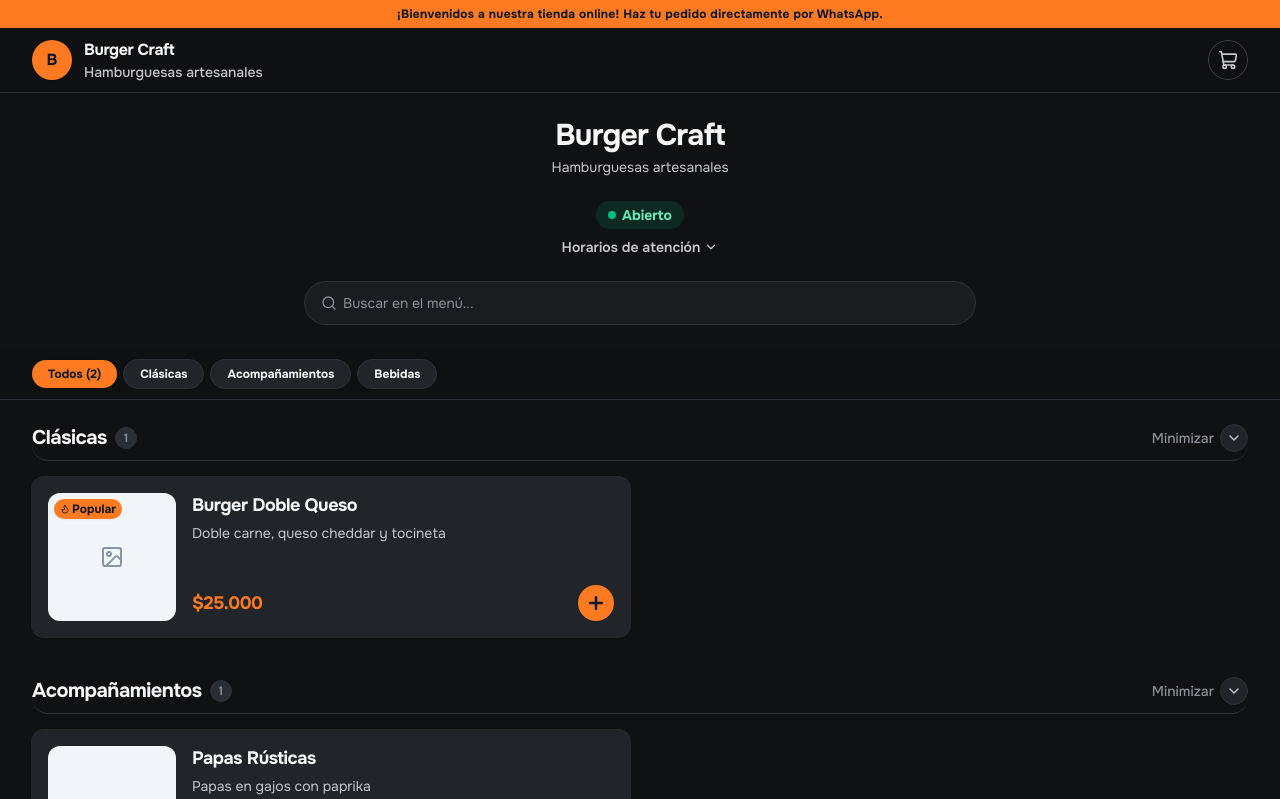
Storefront Navigation & Cart / Checkout Flow › allows collapsing and expanding category sections, and auto-expands on category pill click
This screenshot has width=1280, height=799.
Expected: the search field with placeholder "Buscar en el menú..." is shown, [337,281,971,325]
Expected: the heading "Burger Doble Queso" is shown, [192,494,357,516]
# Click header button to collapse
What coordinates should you click on to do the following:
click the button "Clásicas 1 Minimizar"
I would click on:
 (69, 438)
Its box is [32,424,1248,461].
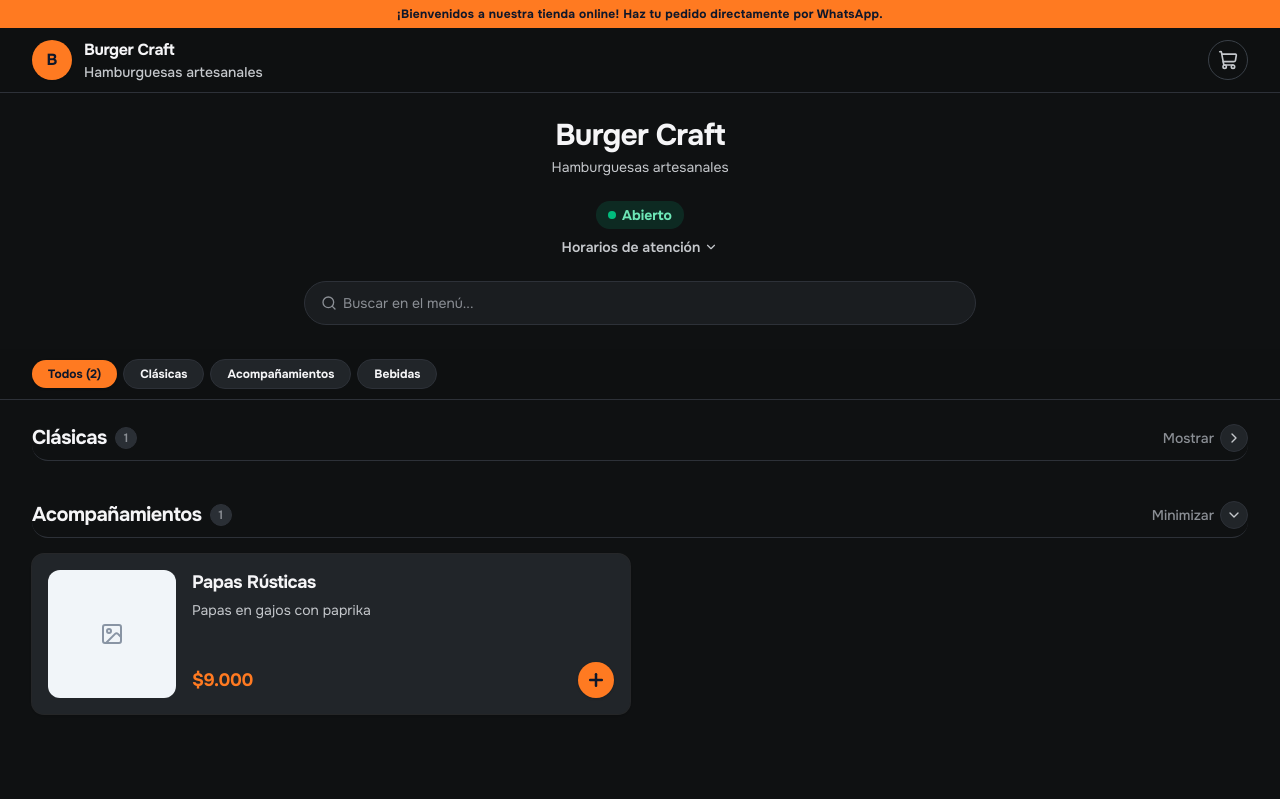
Expected: the button "Clásicas 1 Mostrar" is collapsed
Expected: the button "Burger Doble Queso" is gone
# Click header button again to re-expand
What coordinates should you click on to do the following:
click the button "Clásicas 1 Mostrar"
I would click on:
 (69, 438)
Its box is [32,424,1248,461].
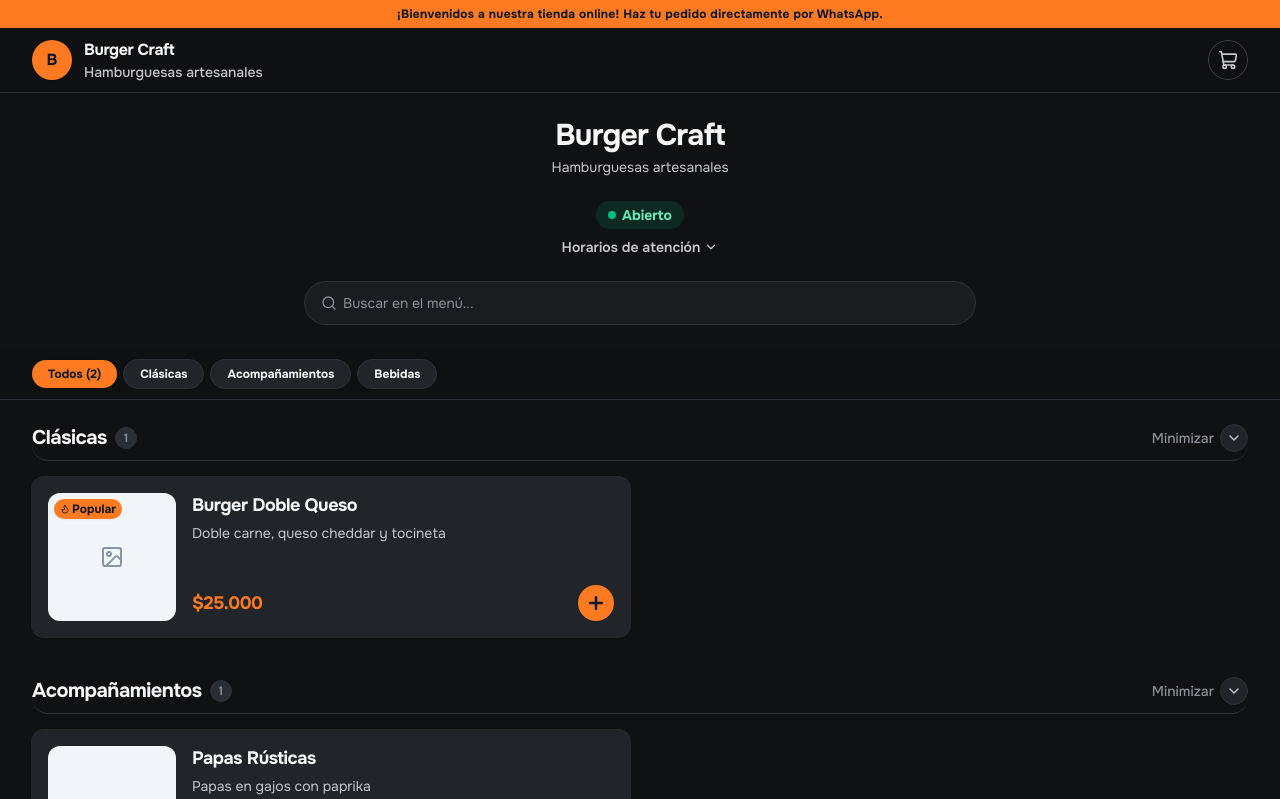
Expected: the button "Clásicas 1 Minimizar" is expanded
Expected: the heading "Burger Doble Queso" is shown, [192,494,357,516]
# Collapse again
What coordinates should you click on to do the following:
click the button "Clásicas 1 Minimizar"
I would click on:
 (69, 438)
Its box is [32,424,1248,461].
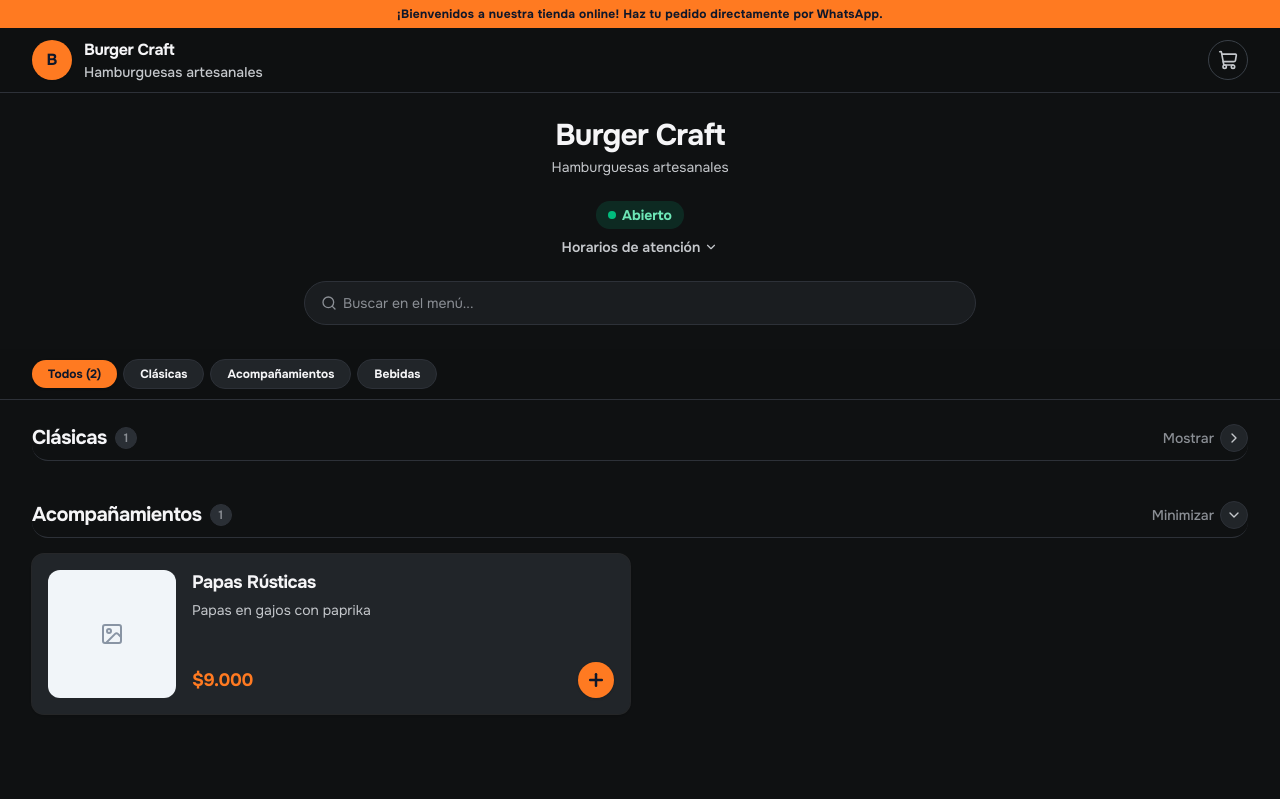
Expected: the button "Burger Doble Queso" is gone
What coordinates should you click on to do the following:
click the button "Clásicas"
I would click on:
 (164, 374)
Its box is [123,359,204,389].
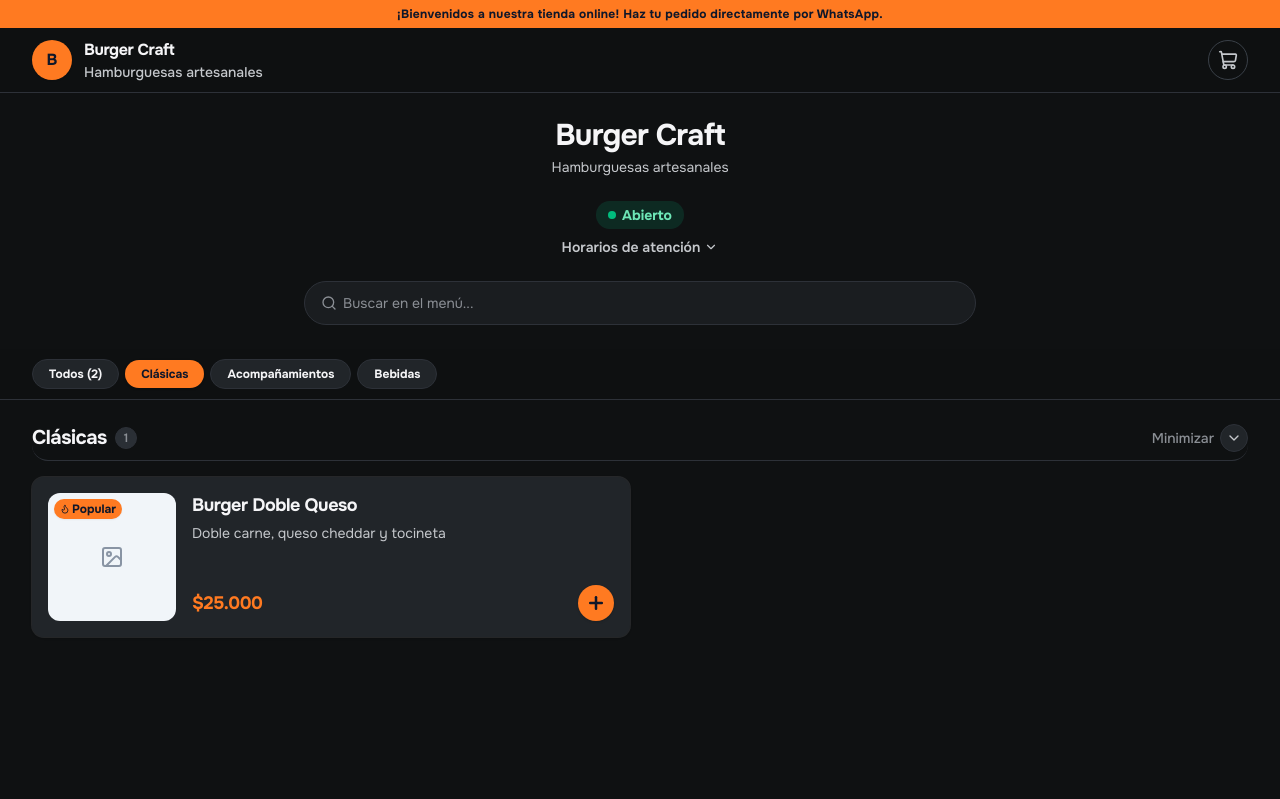
Expected: the button "Clásicas 1 Minimizar" is expanded, [32,424,1248,461]
Expected: the heading "Burger Doble Queso" is shown, [192,494,357,516]
